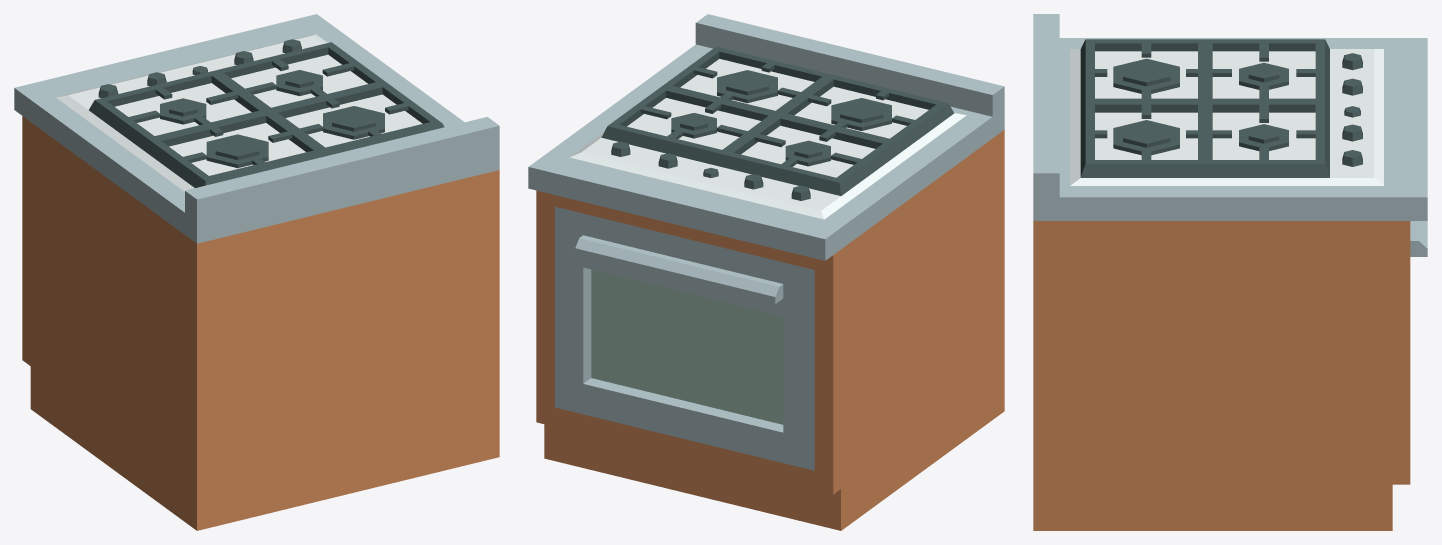
Rendered from kitchen_stove.obj.
3 views of the same model, side by side, from view 1: azimuth 30°, elevation 25°; view 2: azimuth 150°, elevation 25°; view 3: azimuth 270°, elevation 25° (orthographic). The views are drawn at different scales.
Visible parts, largest first — view 1: kitchenStove:door1; view 2: kitchenStove:door1; view 3: kitchenStove:door1.
Part boxes in pixels (x1=…): kitchenStove:door1: x1=14, y1=14, x2=499, y2=530; kitchenStove:door1: x1=528, y1=14, x2=1004, y2=530; kitchenStove:door1: x1=1033, y1=14, x2=1427, y2=530.
Bounding box in the file's own units: 0.43 × 0.45 × 0.45.
